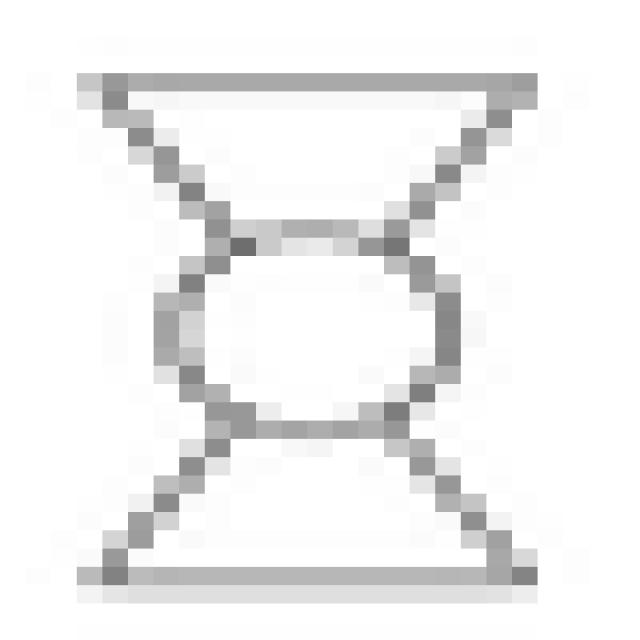ball valve: (93, 86, 527, 587)
